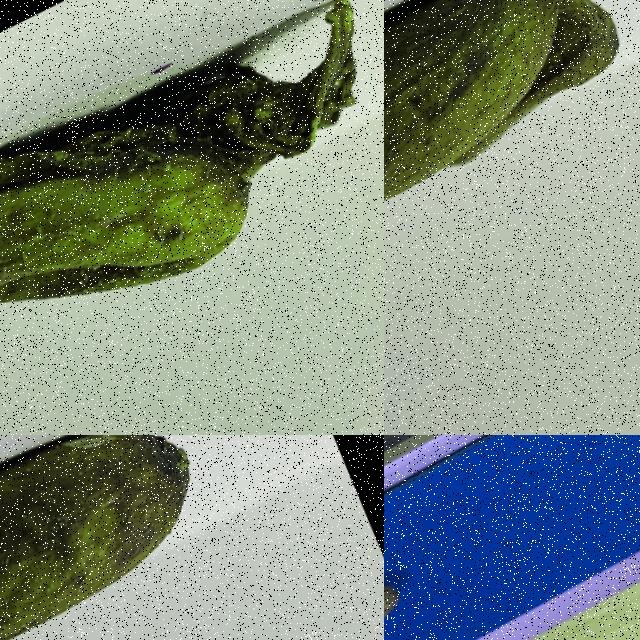Agglomerated_cocoabeans: (0, 0, 383, 434), (384, 0, 639, 367)
Fine_cocoabeans: (0, 435, 307, 639), (384, 477, 515, 639)
